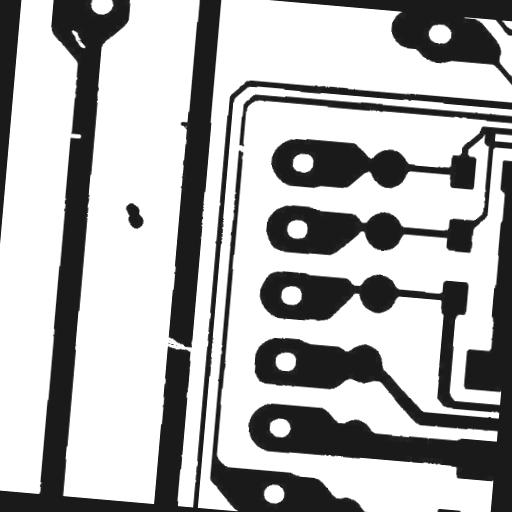copper: (116, 194, 152, 237)
mousebite: (60, 125, 90, 146)
open: (154, 328, 204, 360), (227, 136, 258, 160)
pin-hole: (62, 21, 95, 56)
short: (476, 122, 504, 154)
spur: (172, 114, 198, 138)
